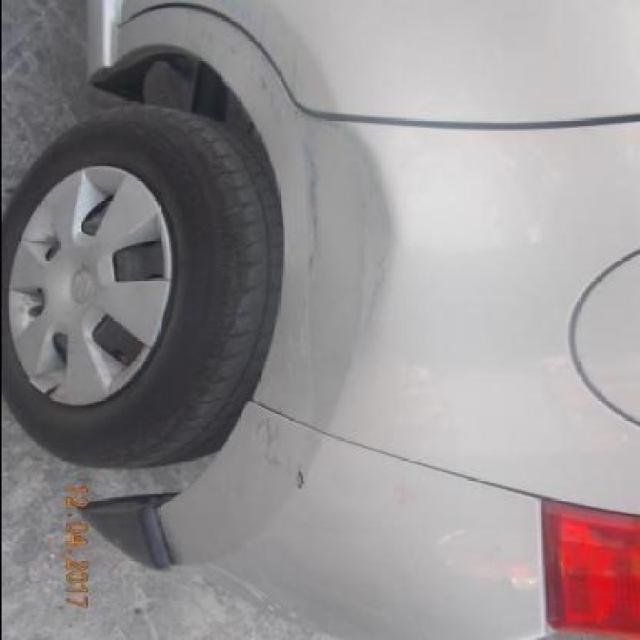damage: (193, 16, 396, 398), (283, 143, 321, 389), (247, 419, 285, 468), (291, 468, 308, 491)
